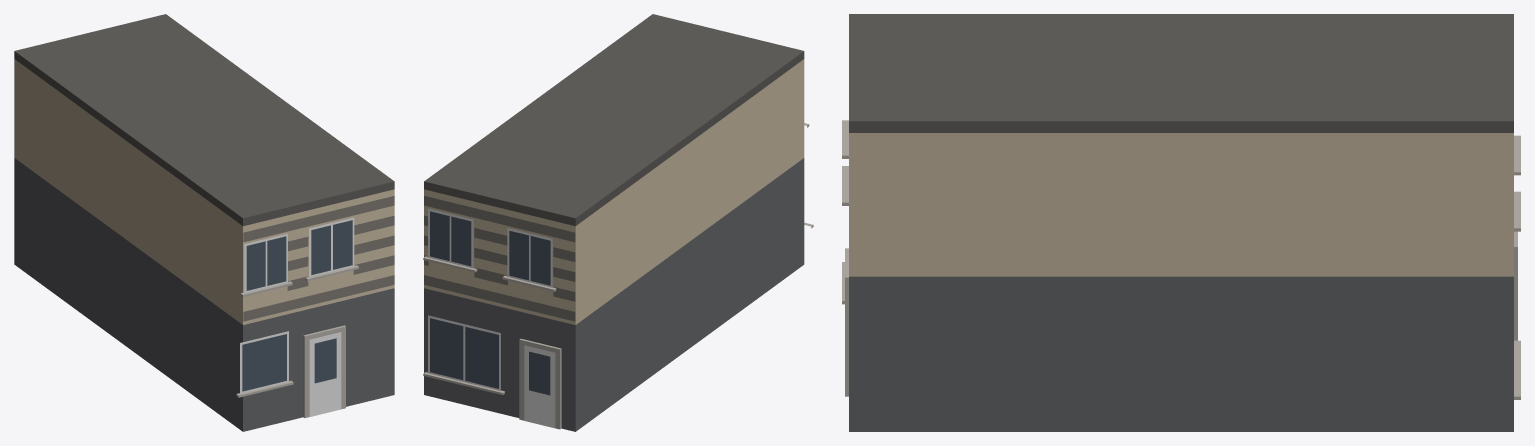
The model's file is nd-tw-flat__striped__2__flat__long__solid__mirror.glb.
3 views of the same model, side by side, from view 1: azimuth 30°, elevation 25°; view 2: azimuth 150°, elevation 25°; view 3: azimuth 270°, elevation 25° (orthographic). The views are drawn at different scales.
Visible parts, largest first — view 1: nd-tw-flat__striped__2__flat__long__solid__mirror; view 2: nd-tw-flat__striped__2__flat__long__solid__mirror; view 3: nd-tw-flat__striped__2__flat__long__solid__mirror.
Boxes of the visible parts, x1,y1,x2,y2 form: nd-tw-flat__striped__2__flat__long__solid__mirror: [14, 14, 394, 431]; nd-tw-flat__striped__2__flat__long__solid__mirror: [423, 14, 813, 431]; nd-tw-flat__striped__2__flat__long__solid__mirror: [842, 14, 1520, 431].
Bounding box in the file's own units: 4.6 × 5.93 × 11.74.
